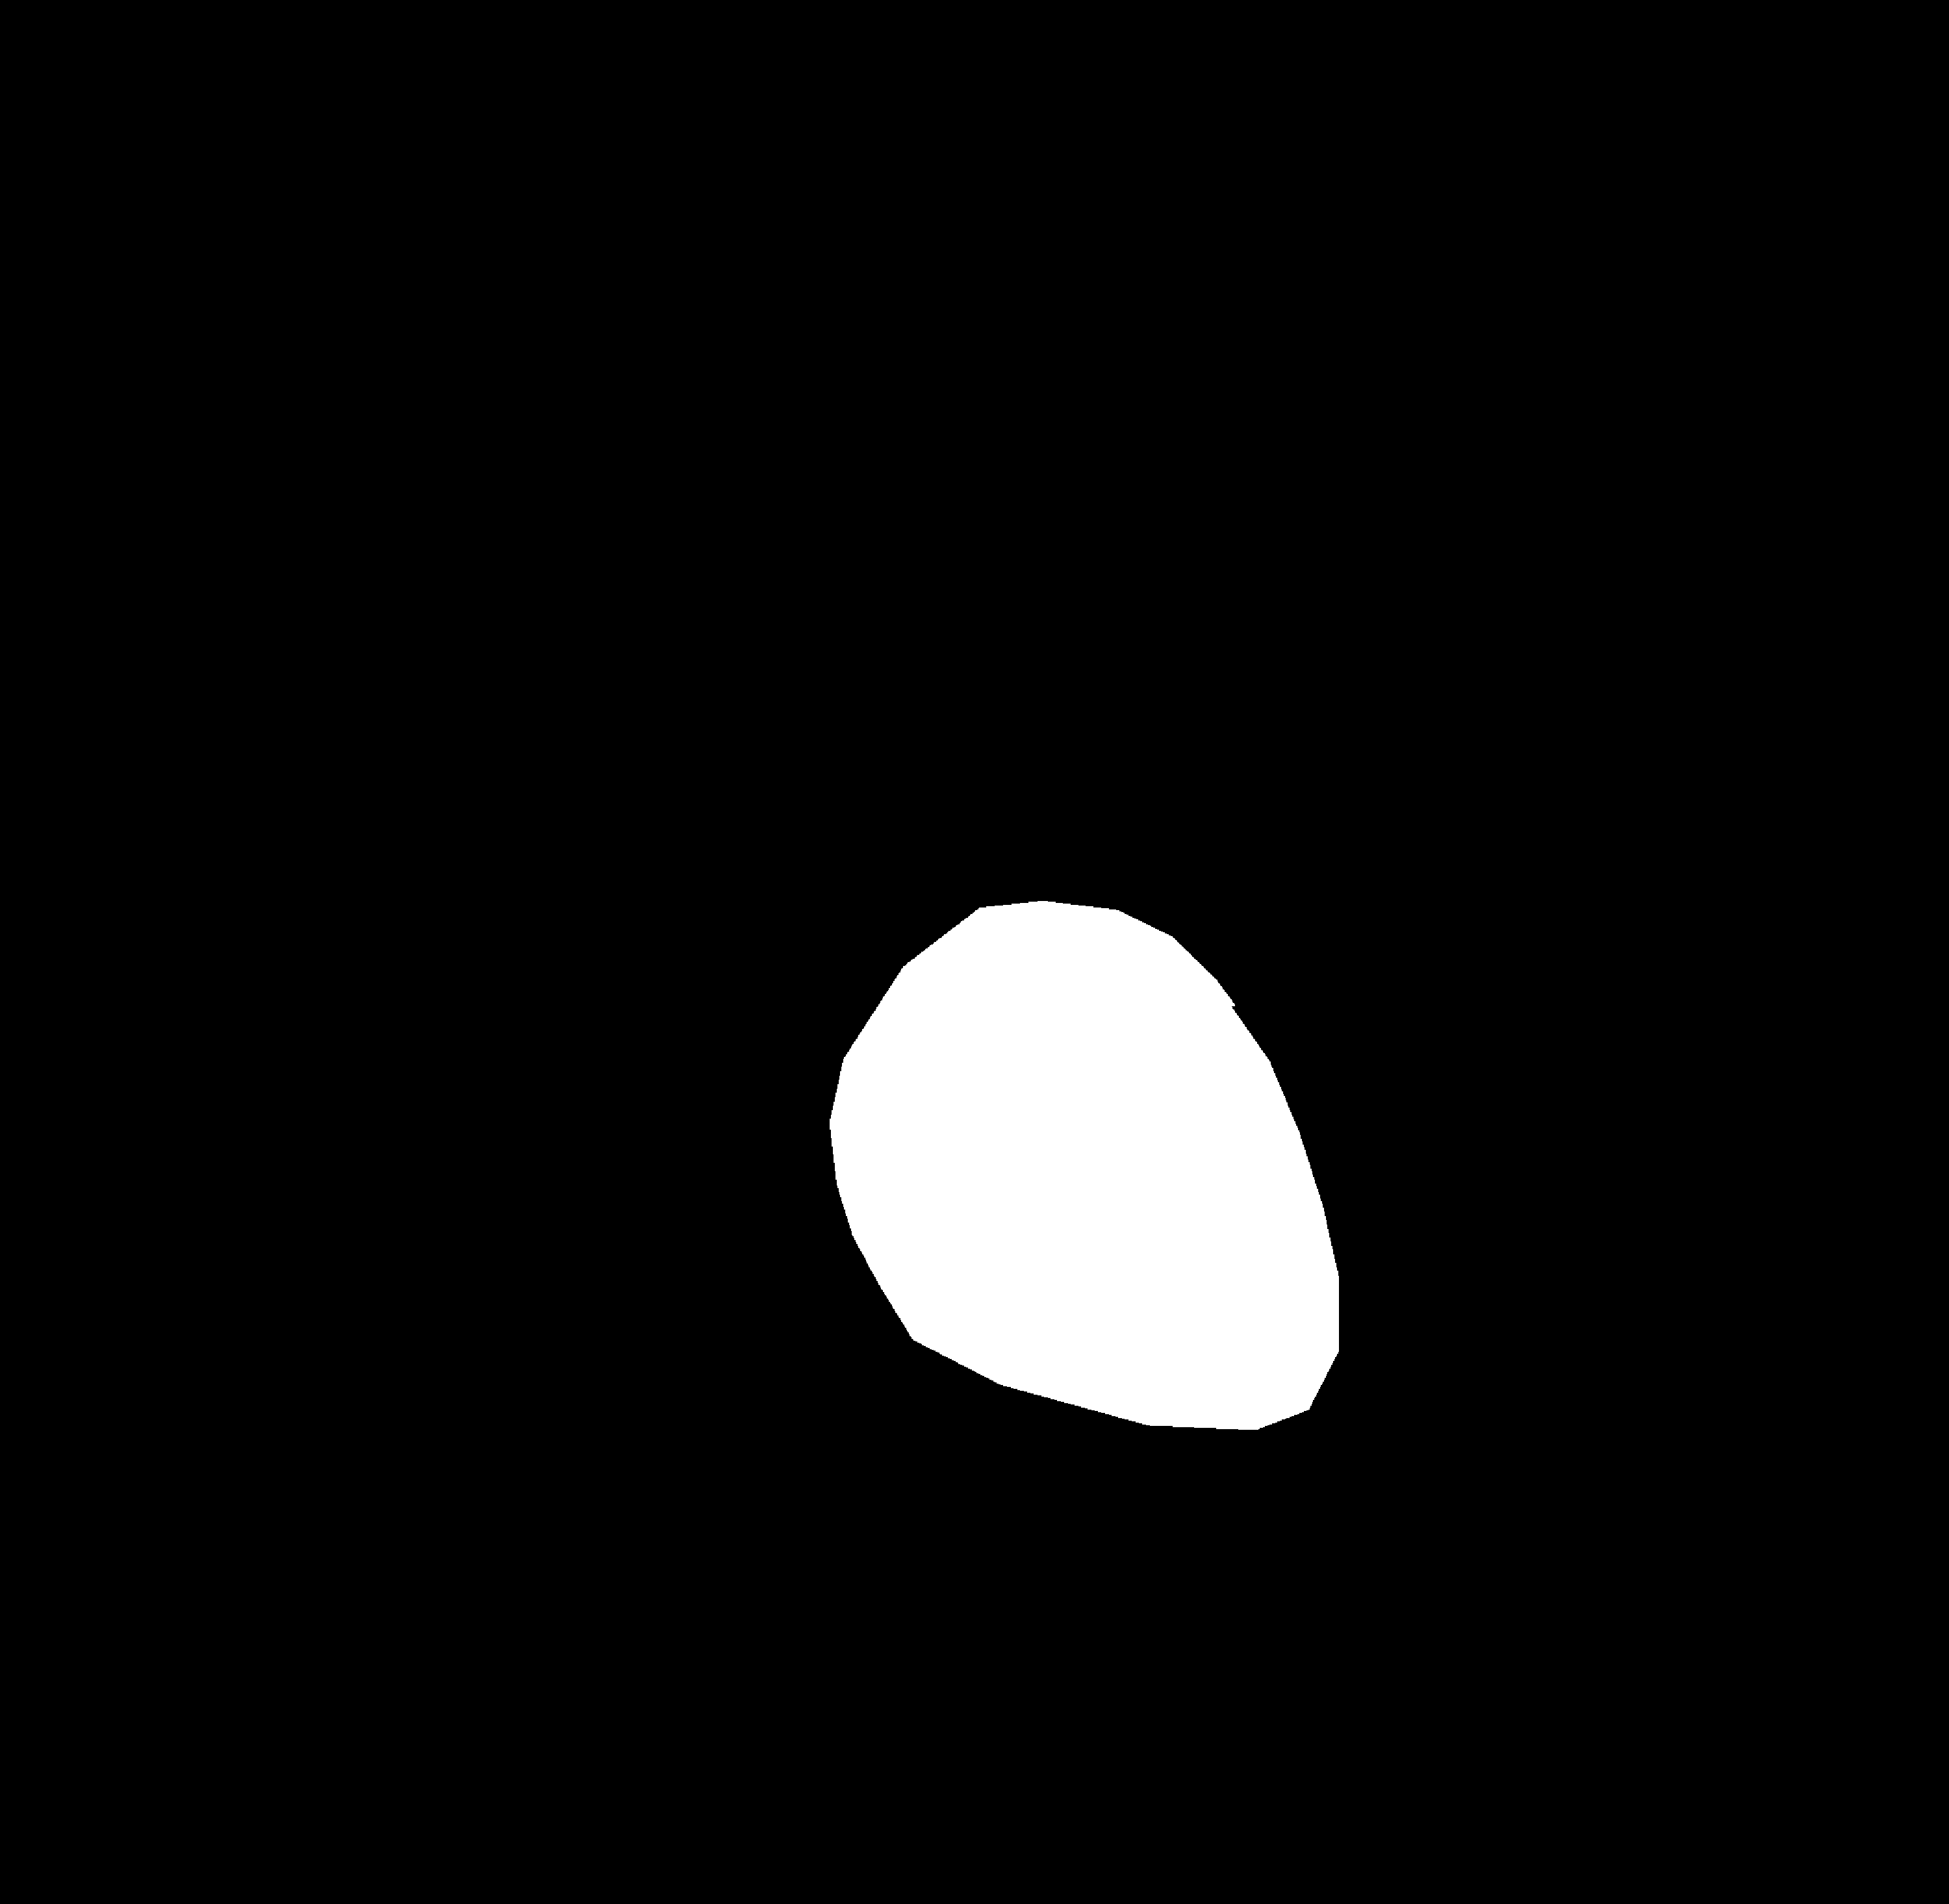heart: (840, 971, 1344, 1425)
left_lung: (268, 122, 886, 1697)
right_lung: (1032, 99, 1714, 1632)
